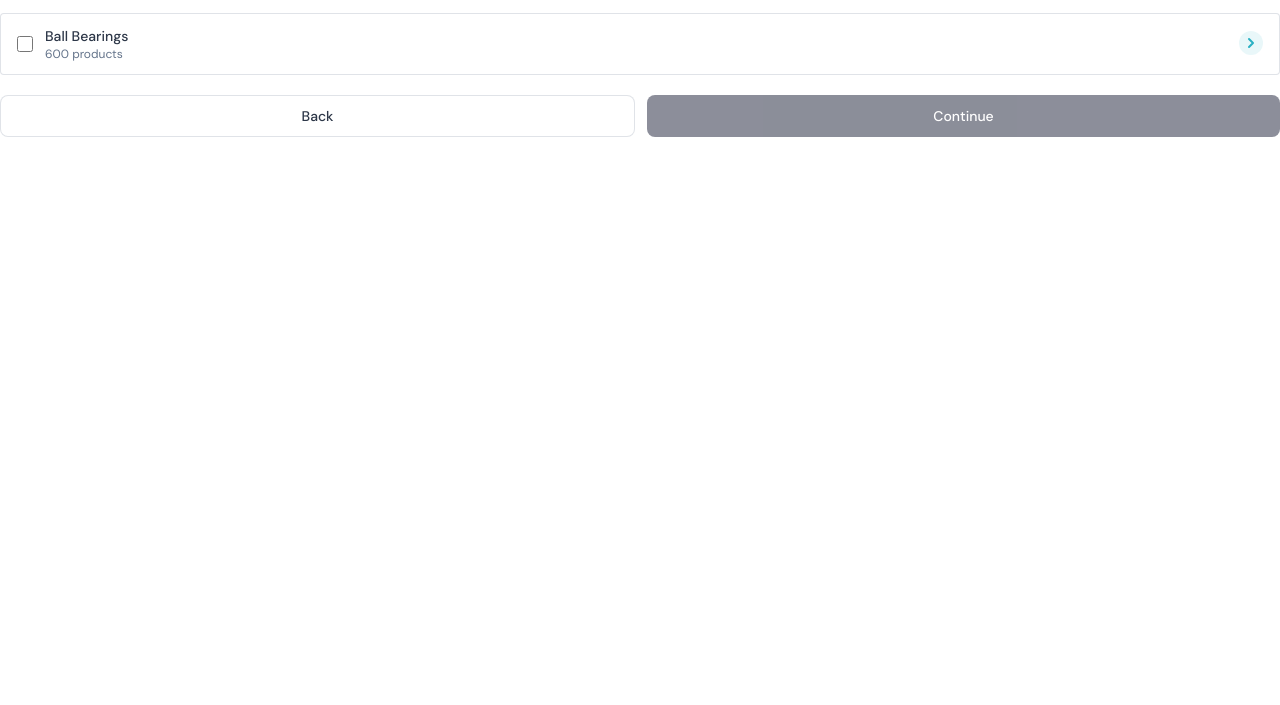
Scenario: CatalogStep — the whole class, not the first page (SEC-web-sonar-3-06) › offers every product of a class that spans two pages
The image size is (1280, 705).
Expected: the text "Ball Bearings" is shown, [45,27,128,45]
Click the button named "products in ball bearings" at (1251,44), box [1235,26,1267,62]
(page scrolled)
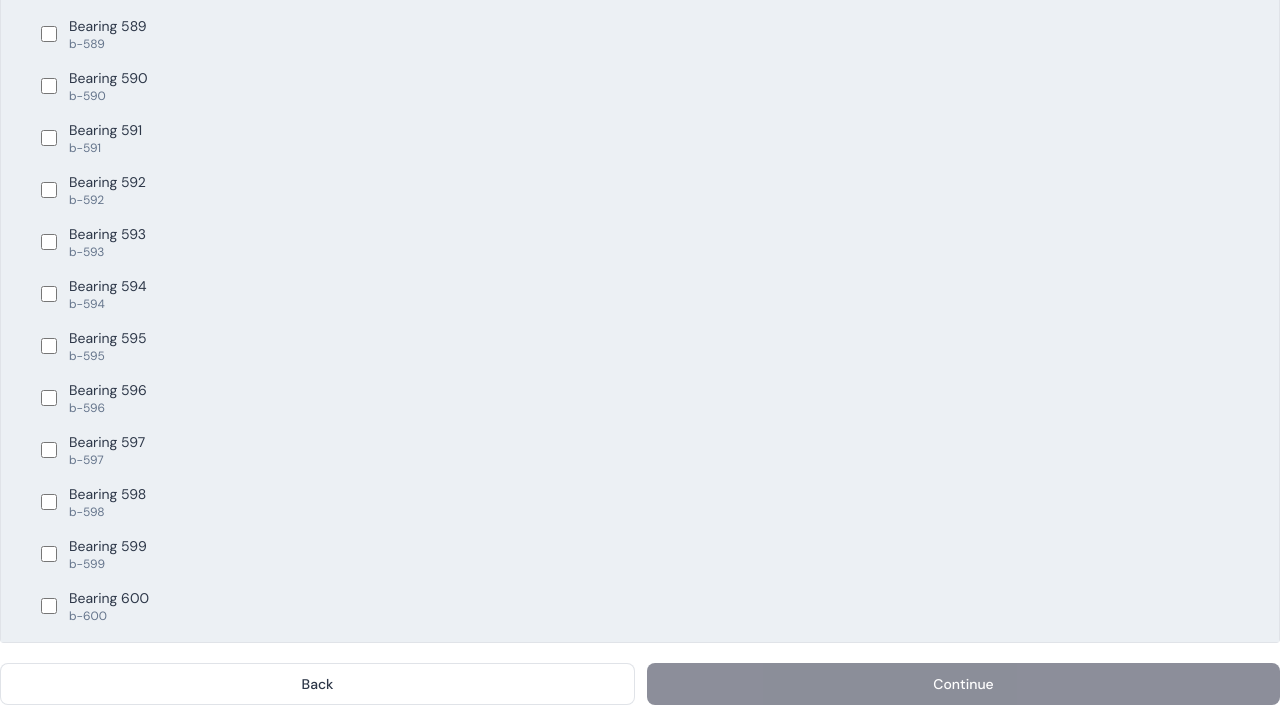
Now the text "Bearing 600" is shown, box [69,588,149,606]
